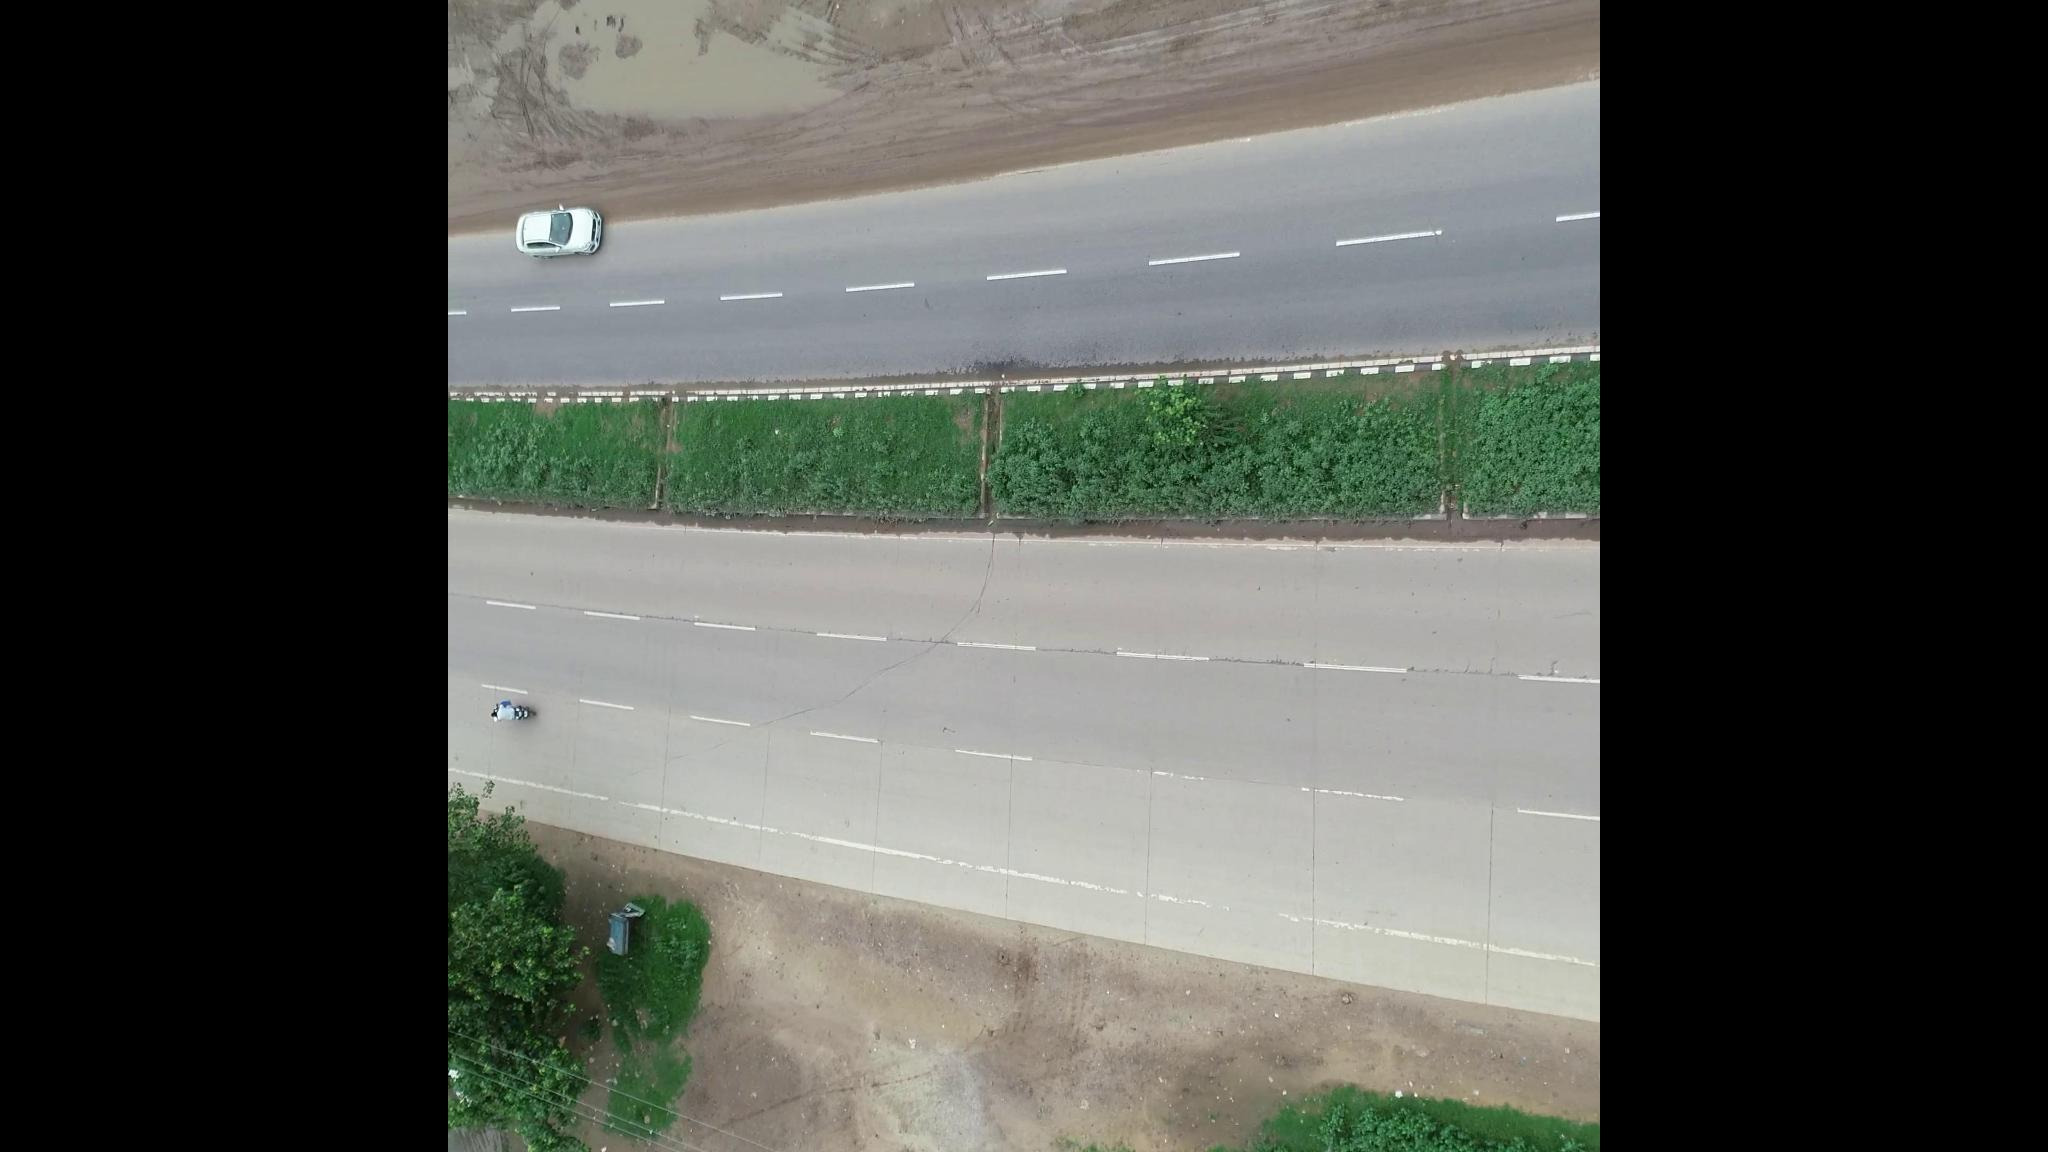Muddy_road: (1084, 1, 1533, 179), (710, 83, 1065, 232)
